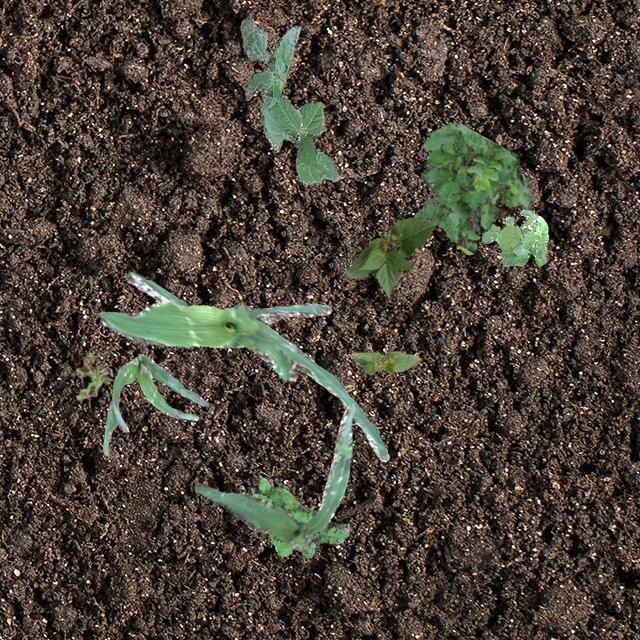crop: (99, 272, 388, 460), (194, 402, 354, 552), (101, 354, 208, 454), (344, 216, 434, 296), (260, 92, 338, 184), (351, 349, 419, 374)
weed: (414, 120, 534, 254), (247, 476, 351, 556), (240, 18, 300, 110), (477, 208, 548, 266), (75, 351, 112, 398)
